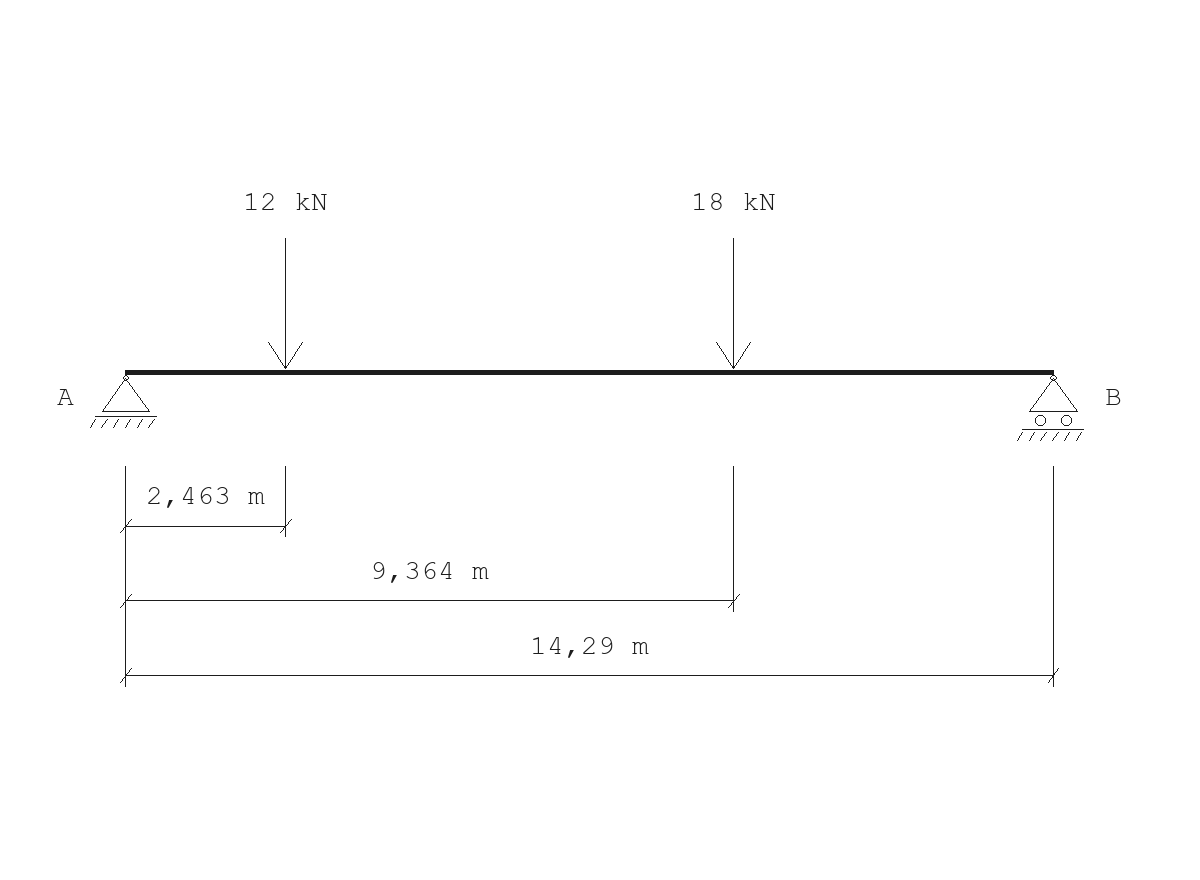pin_support: (90, 375, 157, 428)
point_load: (268, 238, 303, 369), (716, 238, 751, 369)
roller_support: (1017, 375, 1084, 441)
